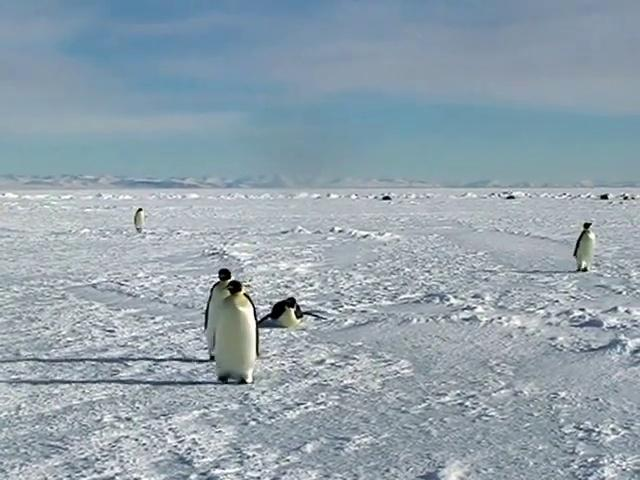animal: (259, 299, 326, 329)
